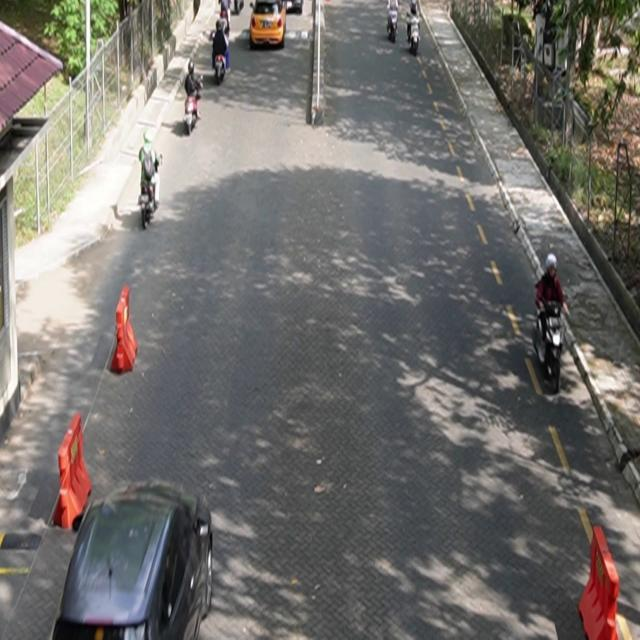car: (51, 480, 214, 640), (250, 1, 287, 50)
